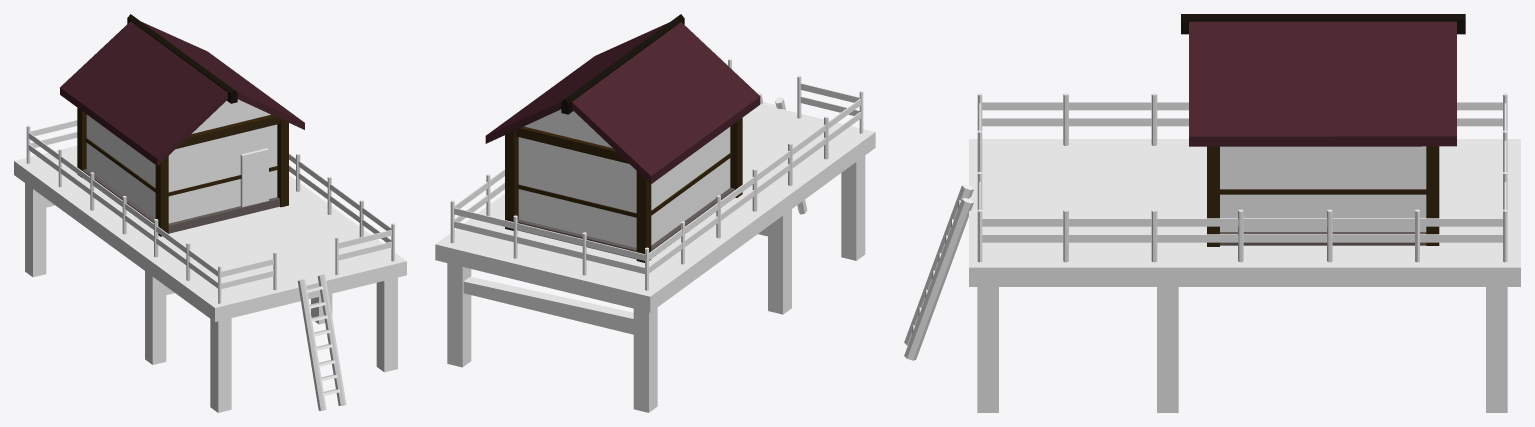
File: QuarryHouse(1).fbx
3 views of the same model, side by side, from view 1: azimuth 30°, elevation 25°; view 2: azimuth 150°, elevation 25°; view 3: azimuth 270°, elevation 25° (orthographic). The views are drawn at different scales.
Parts seen in each view (by area): view 1: QuarryHouse(1); view 2: QuarryHouse(1); view 3: QuarryHouse(1).
Part boxes in pixels (x1,y1,x2,y2): QuarryHouse(1): [14, 14, 406, 412]; QuarryHouse(1): [435, 14, 875, 412]; QuarryHouse(1): [904, 14, 1520, 412].
Bounding box in the file's own units: 6.27 × 7.71 × 12.71.
